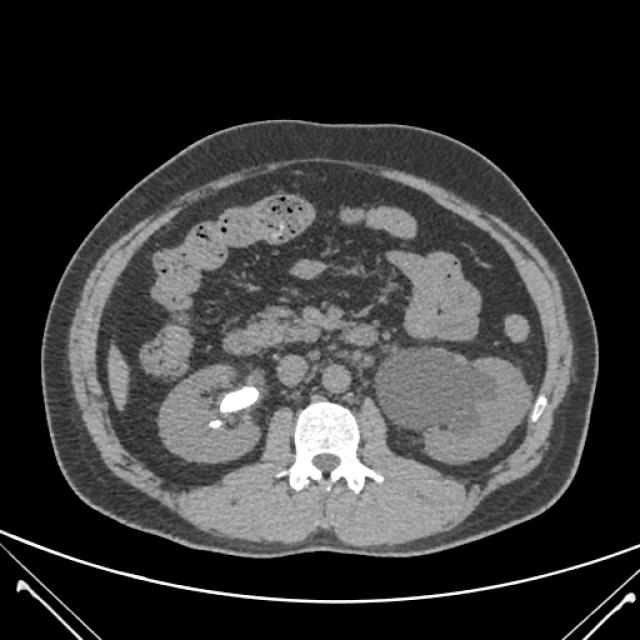kidneystone: (220, 386, 258, 412), (209, 420, 221, 428)
